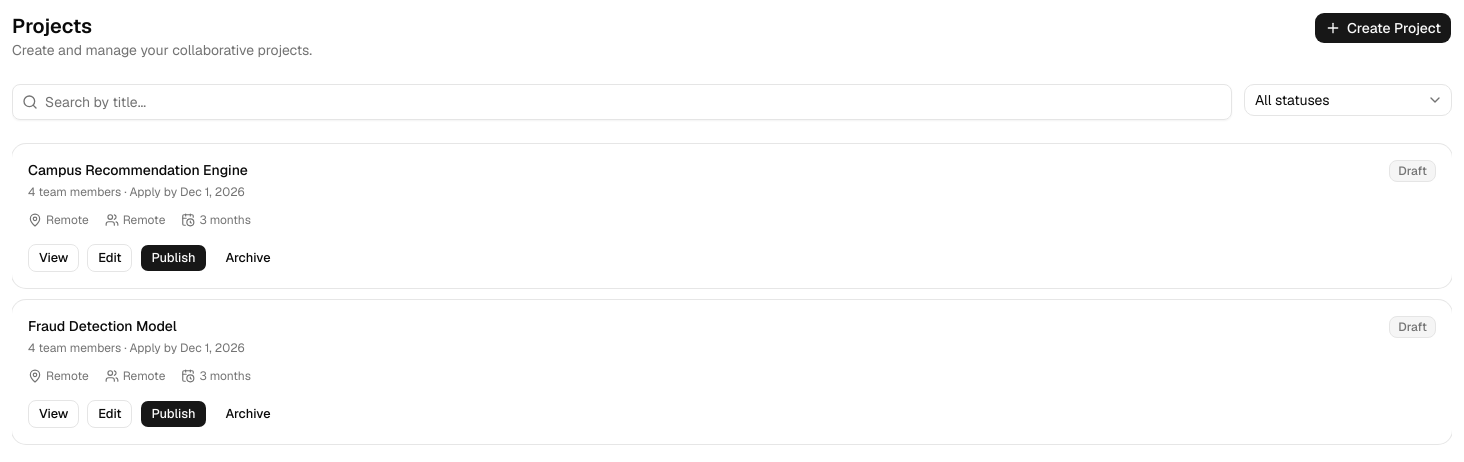
Scenario: ProjectsListView › filters by search text
Expected: the link "Campus Recommendation Engine" is shown, [28, 160, 248, 180]
In the field named "Search projects": point(622, 102) [12, 84, 1232, 120], type "fraud"
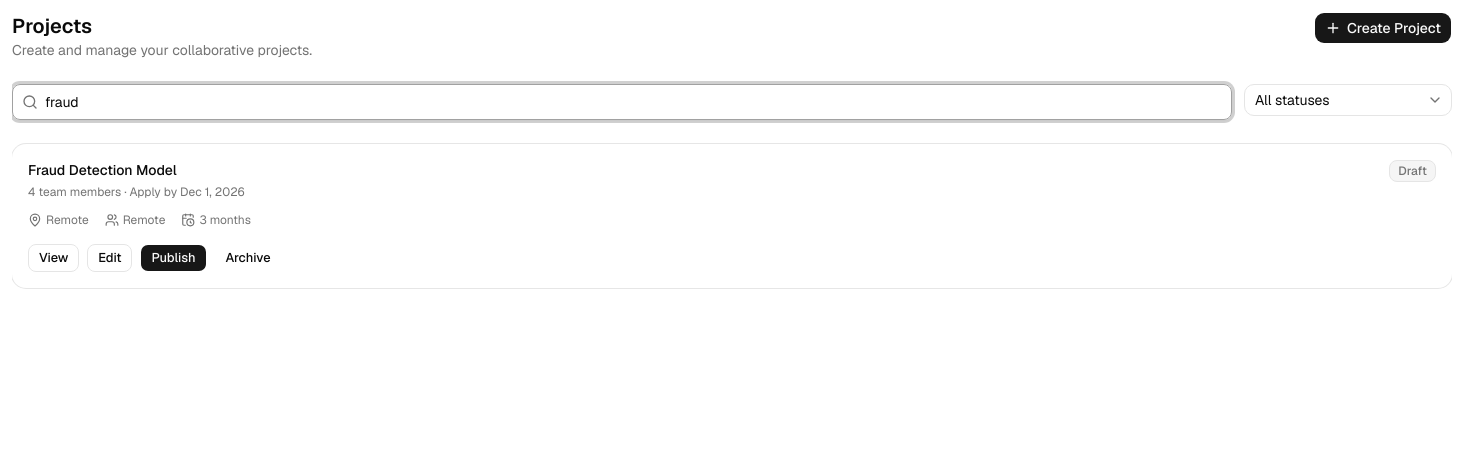
Expected: the link "Fraud Detection Model" is shown, [28, 161, 177, 179]
Expected: the link "Campus Recommendation Engine" is gone
